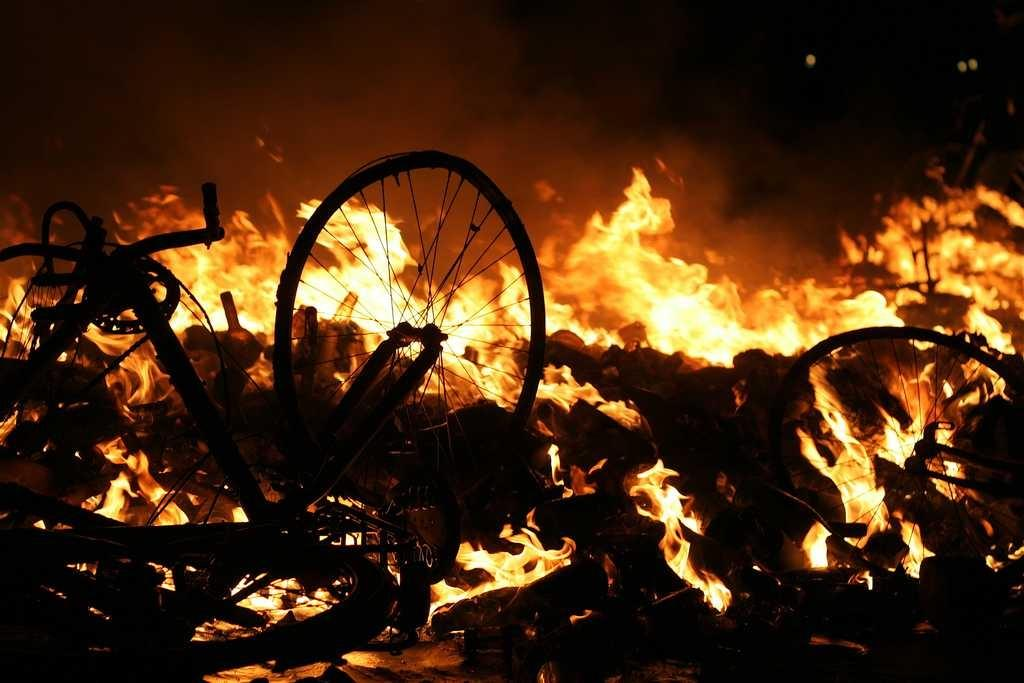fire: (580, 180, 722, 350), (888, 188, 1020, 298), (307, 205, 418, 318), (182, 232, 280, 322), (755, 278, 885, 335), (835, 432, 885, 538), (647, 467, 692, 562), (460, 535, 560, 575)
